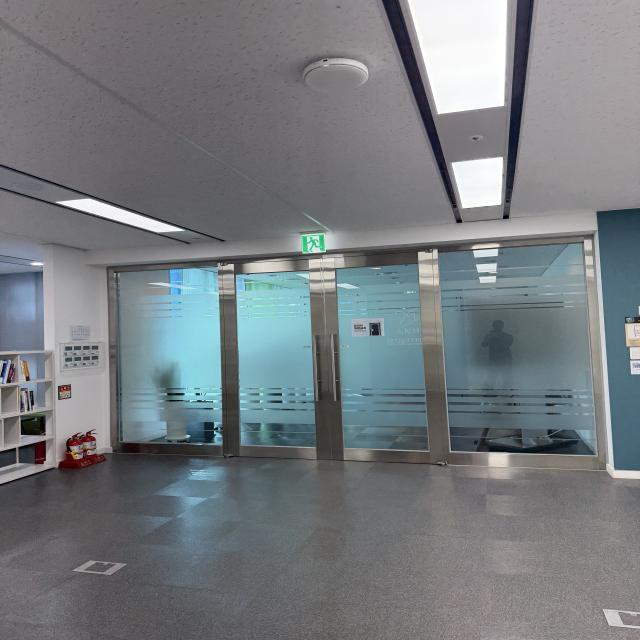front_door: (109, 232, 607, 471)
